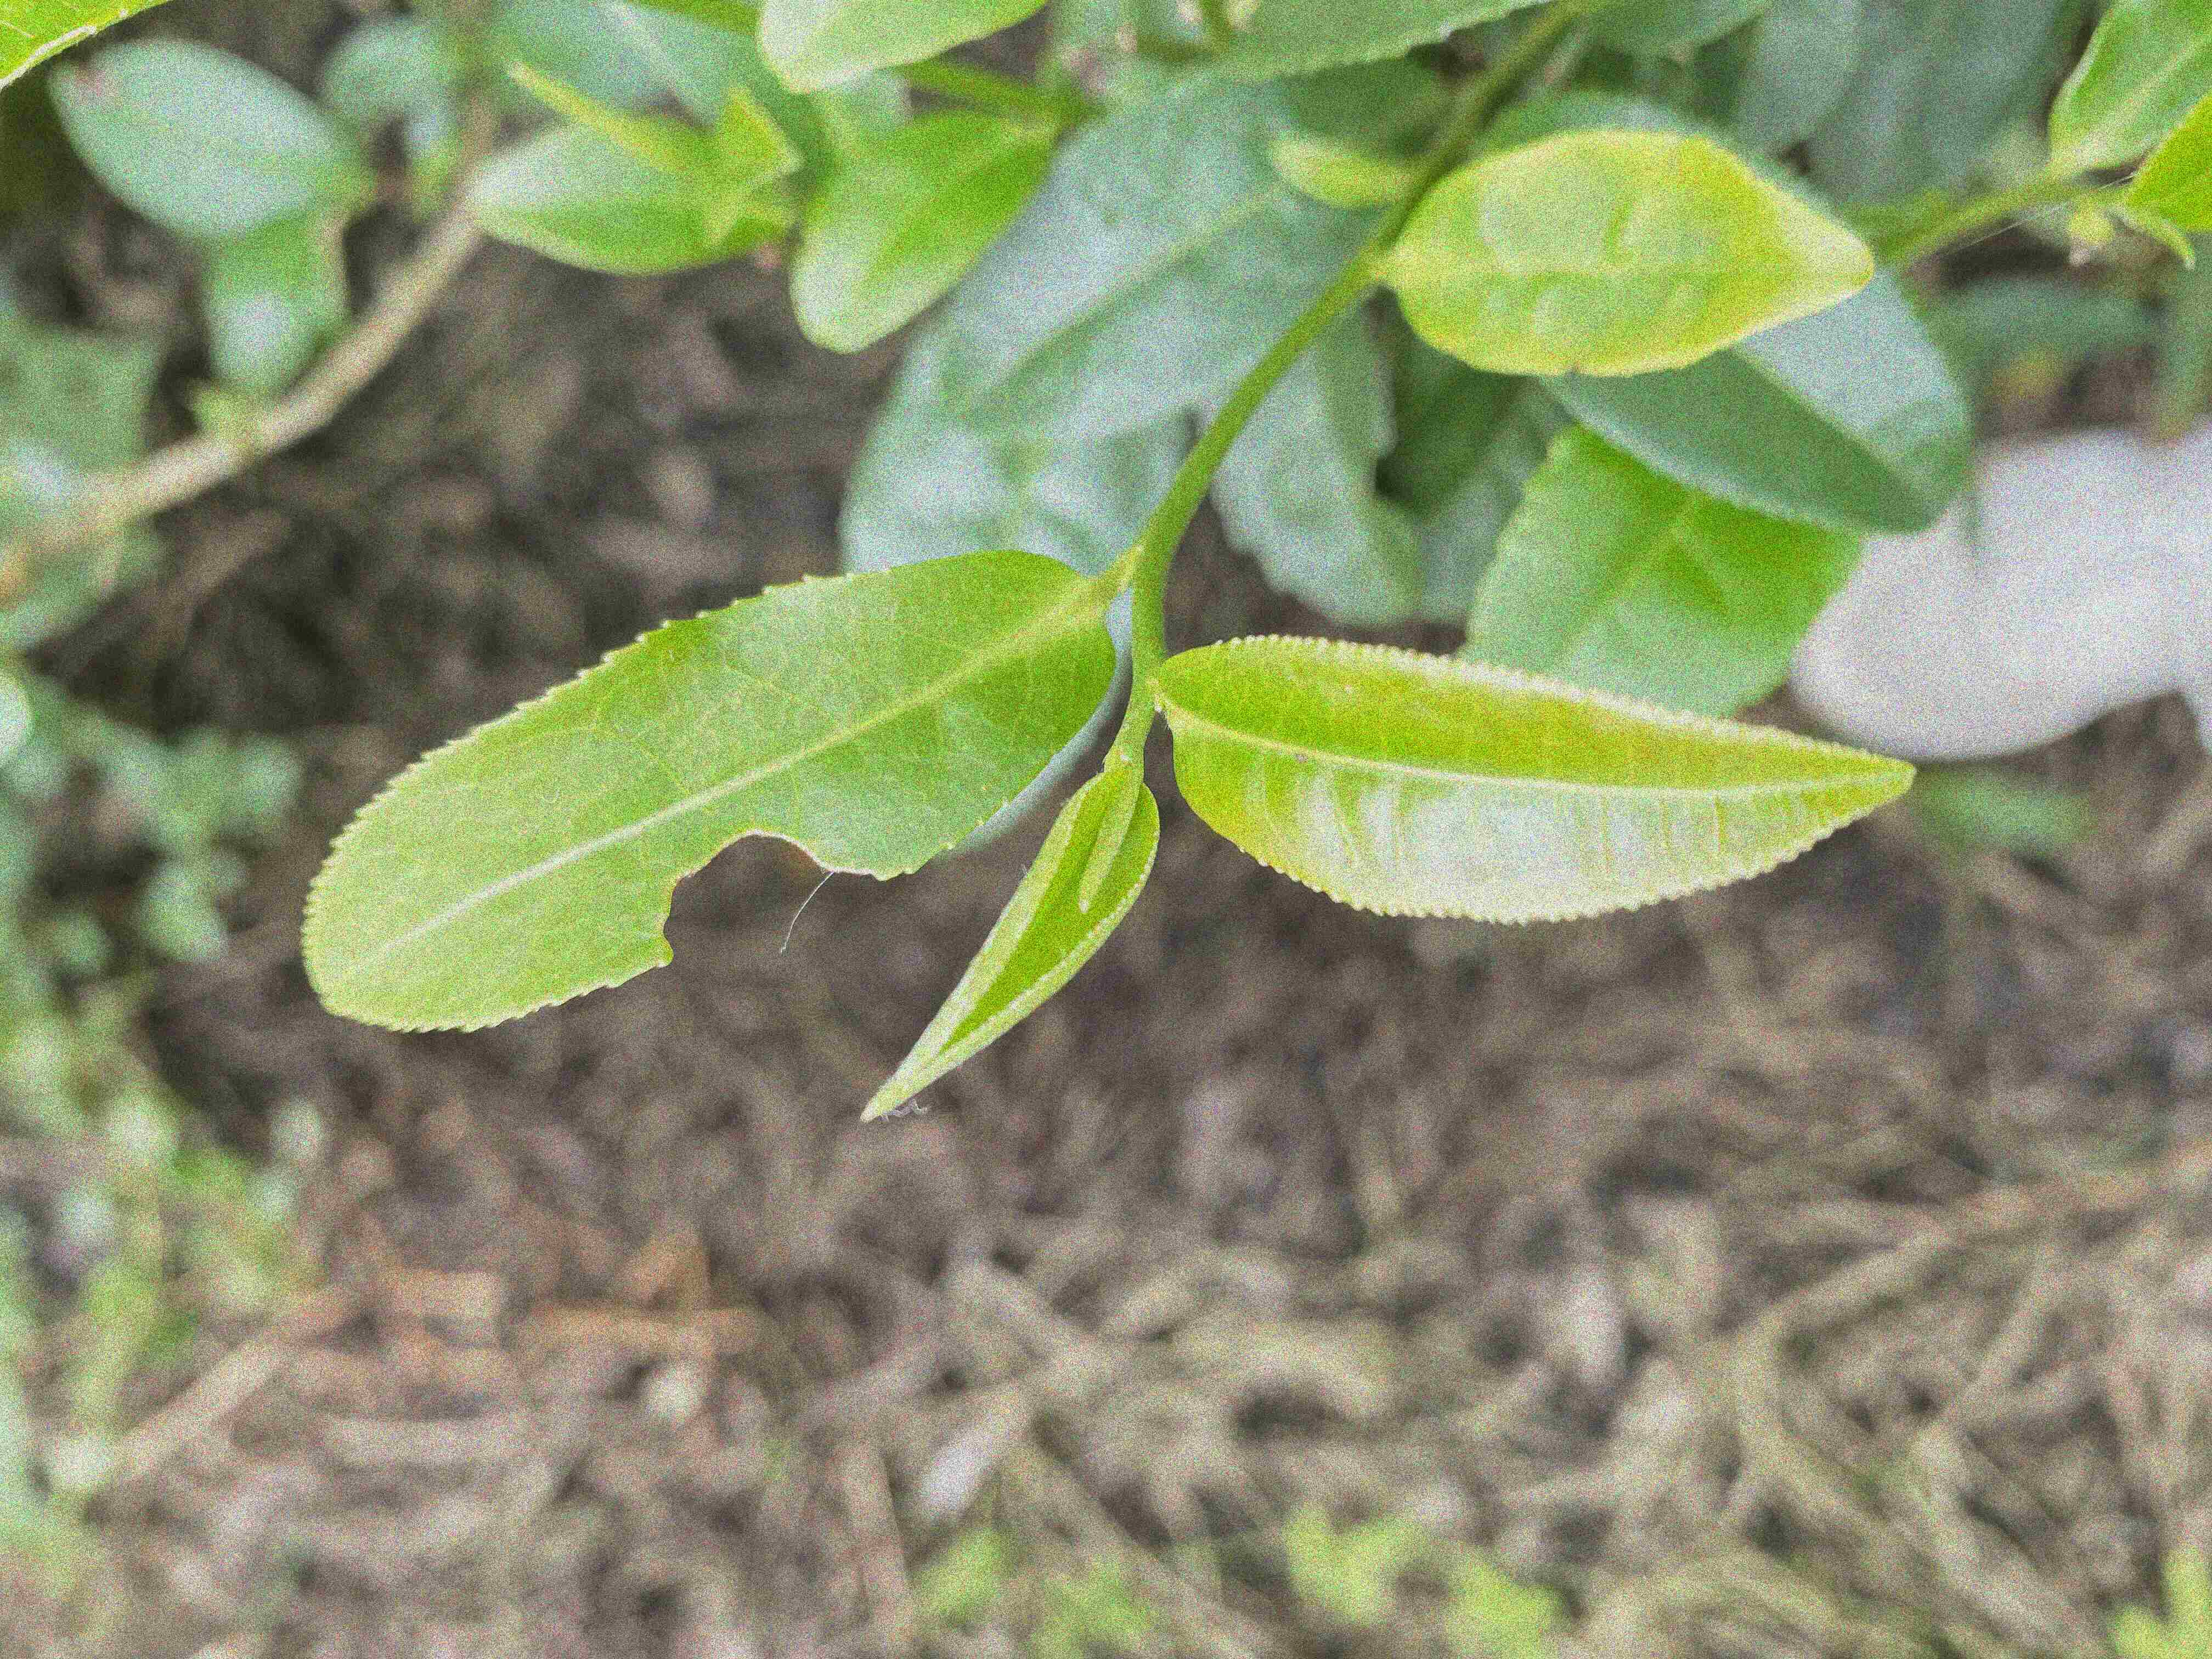chihuo_low: (303, 551, 1115, 1033)
healthy: (1158, 627, 1918, 925)
